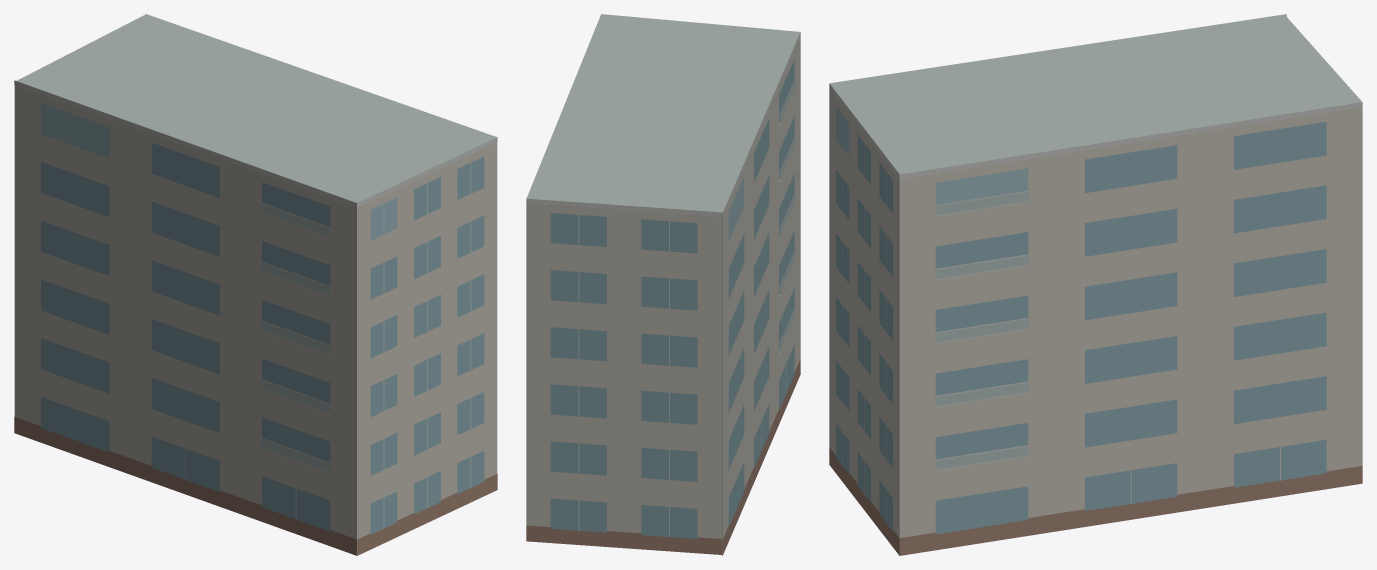
The model's file is survey-upis-33029479.glb.
3 views of the same model, side by side, from view 1: azimuth 30°, elevation 25°; view 2: azimuth 150°, elevation 25°; view 3: azimuth 270°, elevation 25° (orthographic). The views are drawn at different scales.
Parts seen in each view (by area): view 1: survey-upis-33029479.tmp; view 2: survey-upis-33029479.tmp; view 3: survey-upis-33029479.tmp.
Boxes of the visible parts, x1=… form: survey-upis-33029479.tmp: x1=14, y1=14, x2=497, y2=555; survey-upis-33029479.tmp: x1=526, y1=14, x2=800, y2=555; survey-upis-33029479.tmp: x1=829, y1=14, x2=1362, y2=555.
Bounding box in the file's own units: 16.42 × 18.2 × 23.06.
